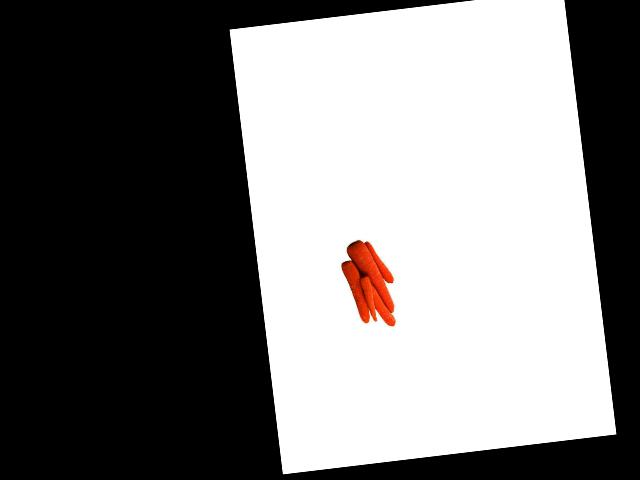carrot: (343, 256, 367, 327)
